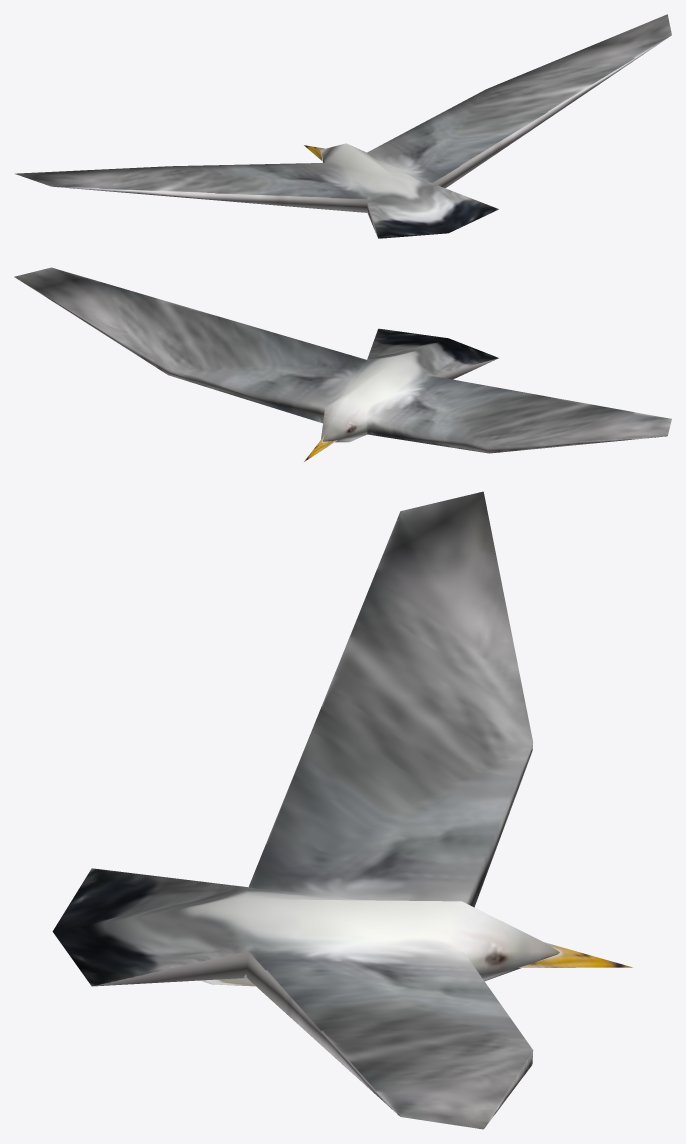
The model's file is seagull.glb.
3 views of the same model, one above another, from view 1: azimuth 30°, elevation 25°; view 2: azimuth 150°, elevation 25°; view 3: azimuth 270°, elevation 25° (orthographic). The views are drawn at different scales.
Parts seen in each view (by area): view 1: SeagullMesh; view 2: SeagullMesh; view 3: SeagullMesh.
Boxes of the visible parts, box(x1,y1,x2,y2) form: SeagullMesh: box(15, 14, 671, 238); SeagullMesh: box(14, 267, 671, 461); SeagullMesh: box(52, 491, 632, 1129).
Size of the model in its own units: 18.57 by 2.5 by 7.15.
1 material, 1 textured.
